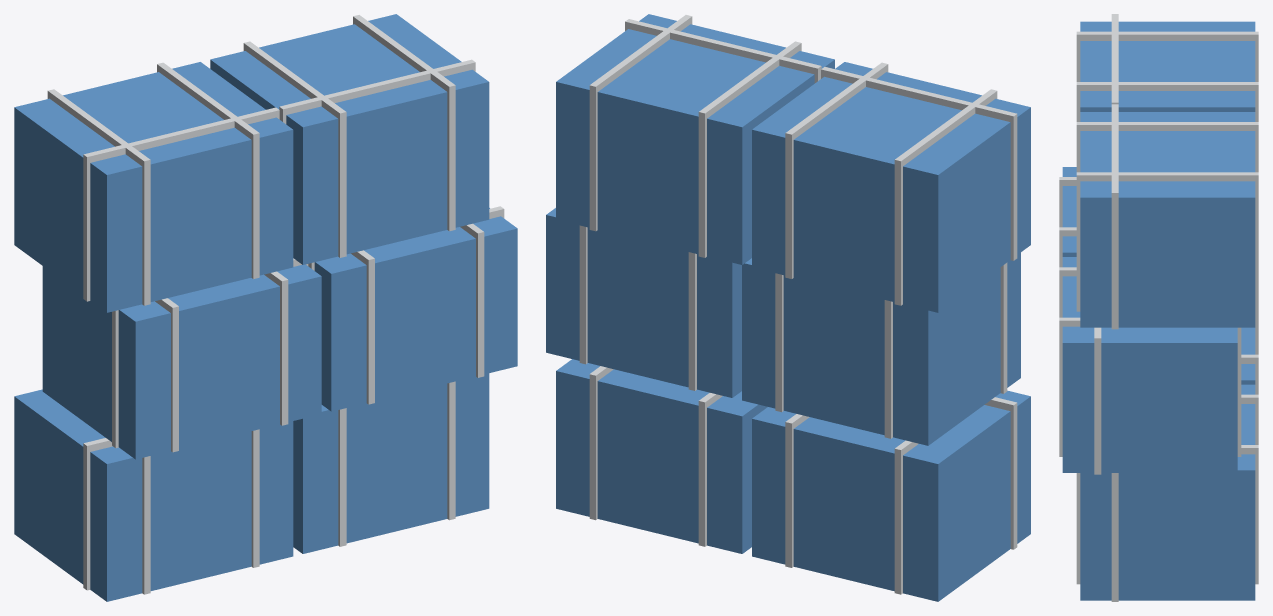
The model's file is recycling-and-waste-transfer-yard-recycling-and-waste--9927f542__34915.glb.
3 views of the same model, side by side, from view 1: azimuth 30°, elevation 25°; view 2: azimuth 150°, elevation 25°; view 3: azimuth 270°, elevation 25° (orthographic). The views are drawn at different scales.
Visible parts, largest first — view 1: recycling-and-waste-transfer-yard-plastic-bale-stack; view 2: recycling-and-waste-transfer-yard-plastic-bale-stack; view 3: recycling-and-waste-transfer-yard-plastic-bale-stack.
Part boxes in pixels (x1,y1,x2,y2): recycling-and-waste-transfer-yard-plastic-bale-stack: [14, 14, 517, 601]; recycling-and-waste-transfer-yard-plastic-bale-stack: [546, 14, 1030, 601]; recycling-and-waste-transfer-yard-plastic-bale-stack: [1059, 14, 1258, 601].
Bounding box in the file's own units: 2.54 × 2.58 × 1.14.
